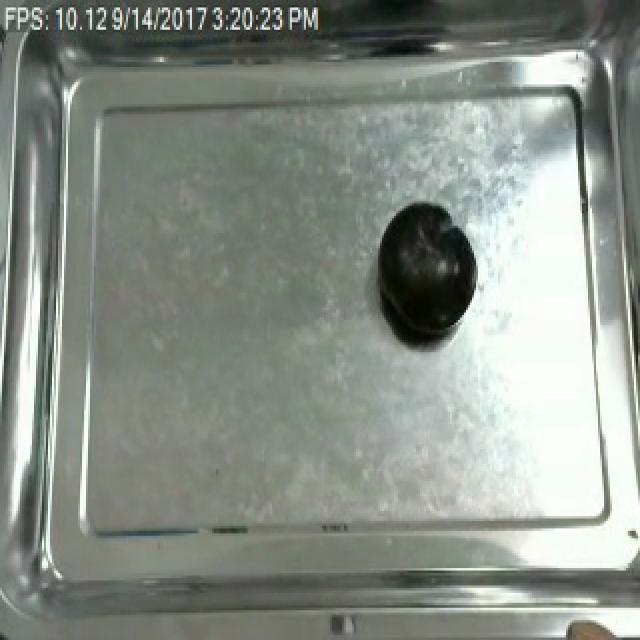Fruit: (372, 196, 482, 347), (554, 610, 638, 640)
